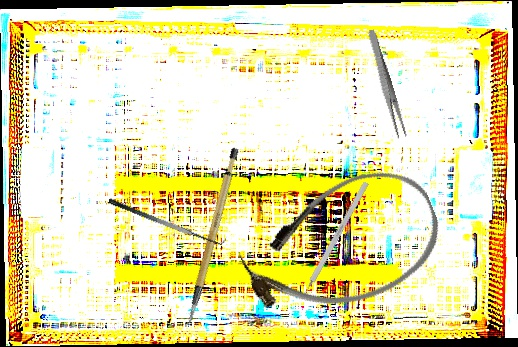Cannula: (227, 152, 456, 338)
Dressing Forceps: (363, 28, 409, 140)
Hook Surgical: (296, 181, 370, 305)
Scalpel Handle: (159, 145, 262, 326)
Spatula Surgical: (107, 188, 228, 252)
